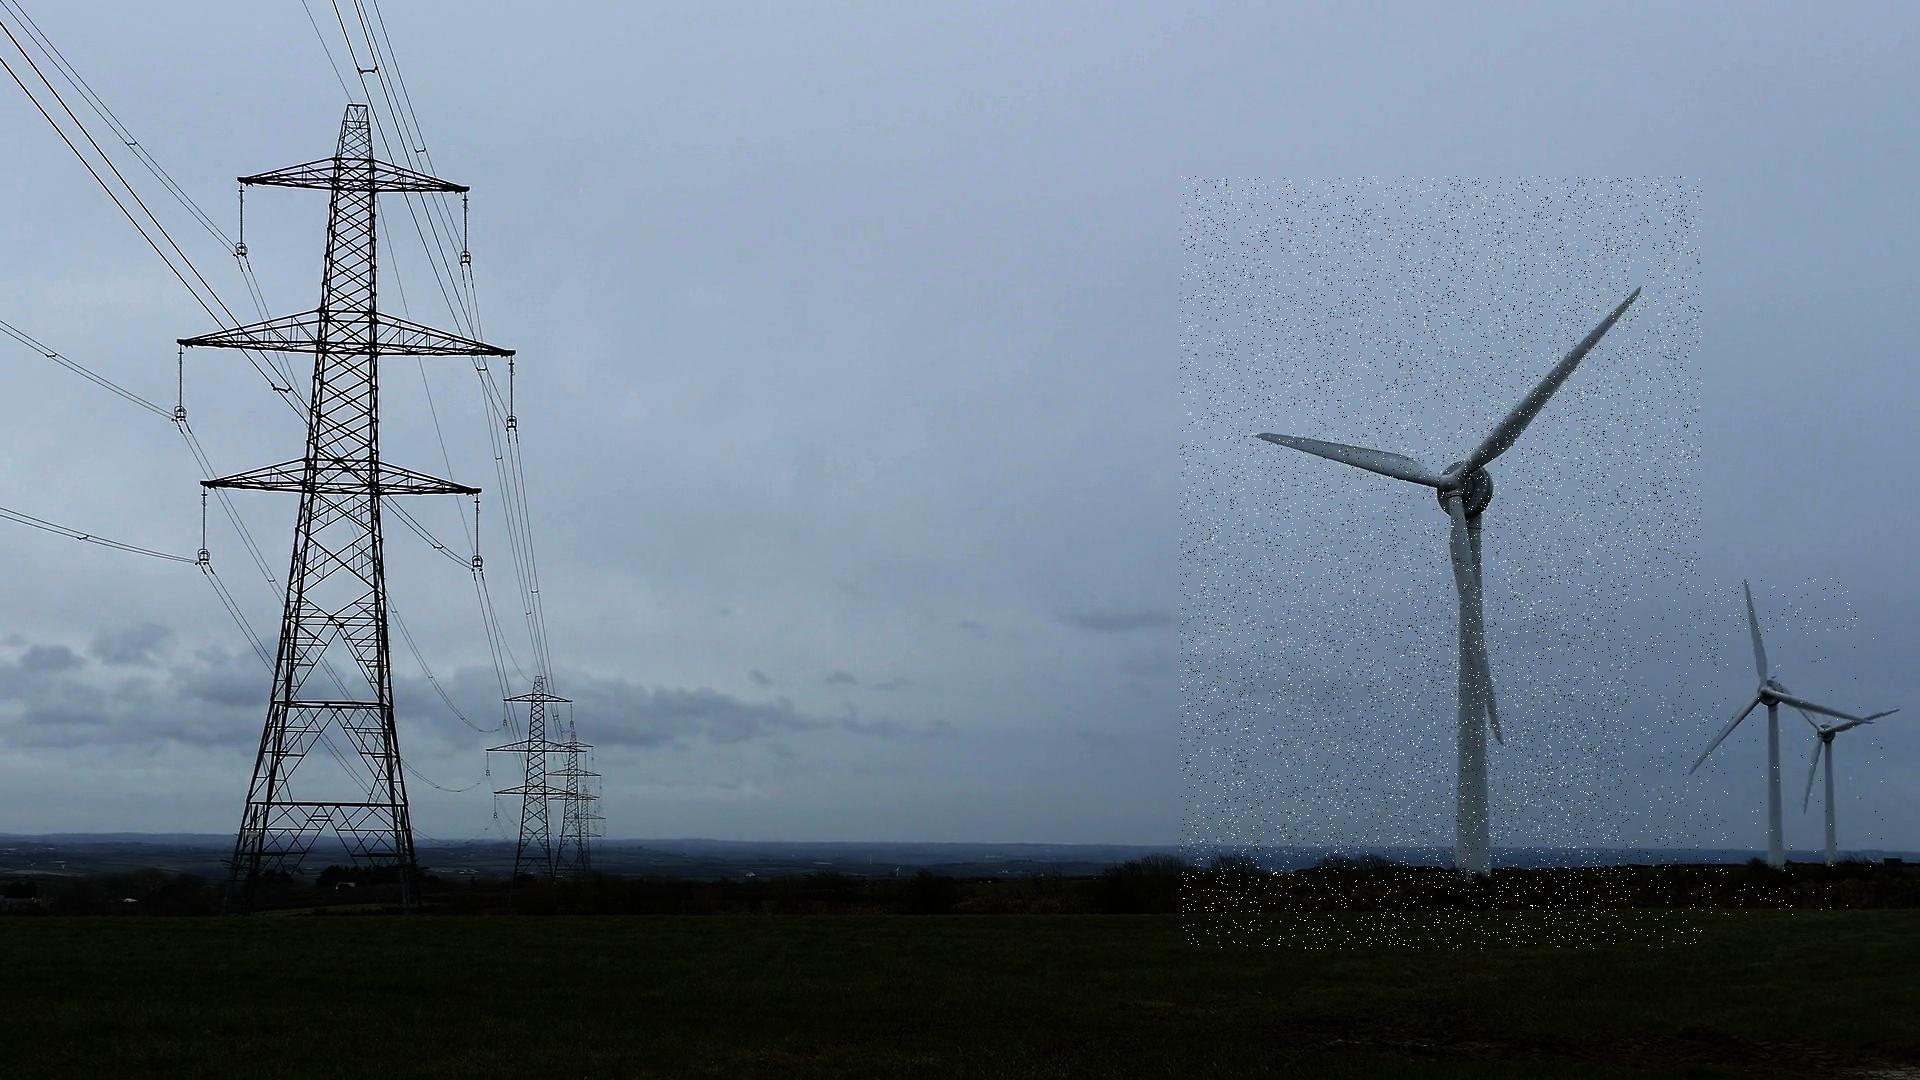cable tower: (170, 102, 517, 928), (483, 675, 588, 897), (545, 731, 601, 881), (567, 789, 607, 872)
turbine: (1180, 175, 1702, 949), (1627, 579, 1857, 918), (1727, 633, 1883, 887)
